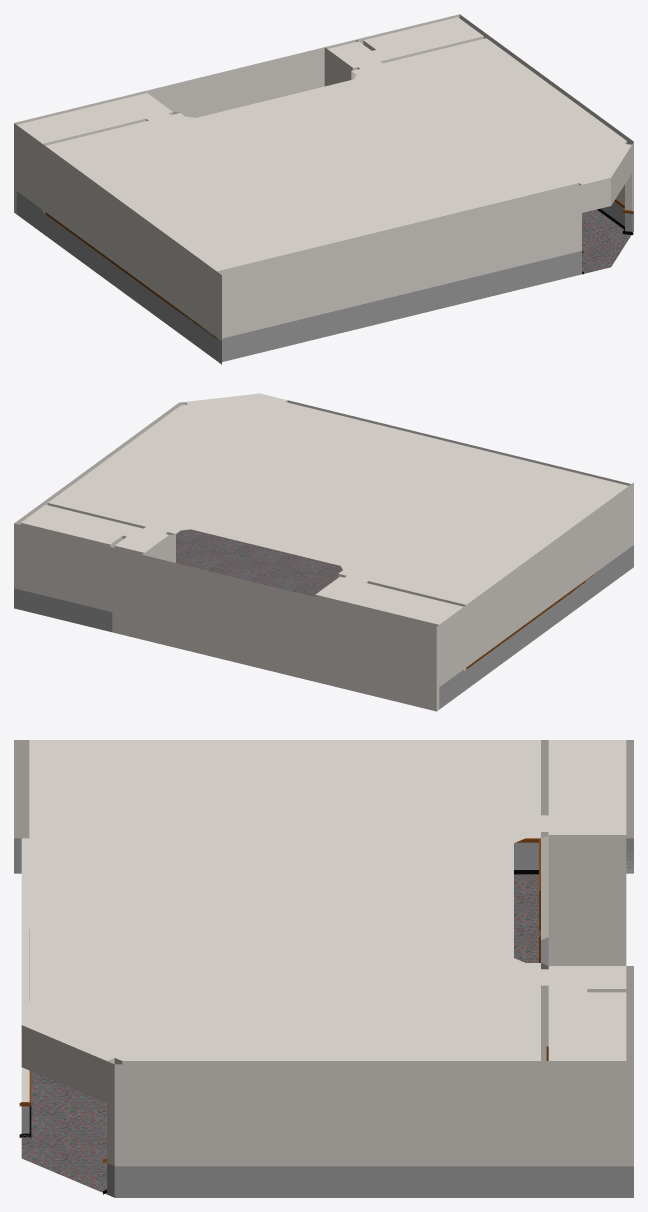
The model's file is 1StageGenericRoom.glb.
3 renders of one model, top to bottom at view 1: azimuth 30°, elevation 25°; view 2: azimuth 150°, elevation 25°; view 3: azimuth 270°, elevation 25°, orthographic. The views are drawn at different scales.
Parts seen in each view (by area): view 1: Room; view 2: Room; view 3: Room.
Boxes of the visible parts, <box> form: Room: <box>14,14,633,364</box>; Room: <box>14,393,633,711</box>; Room: <box>14,740,633,1197</box>.
Size of the model in its own units: 19.8 by 3.8 by 16.
Materials: 6 (1 with a texture image).
